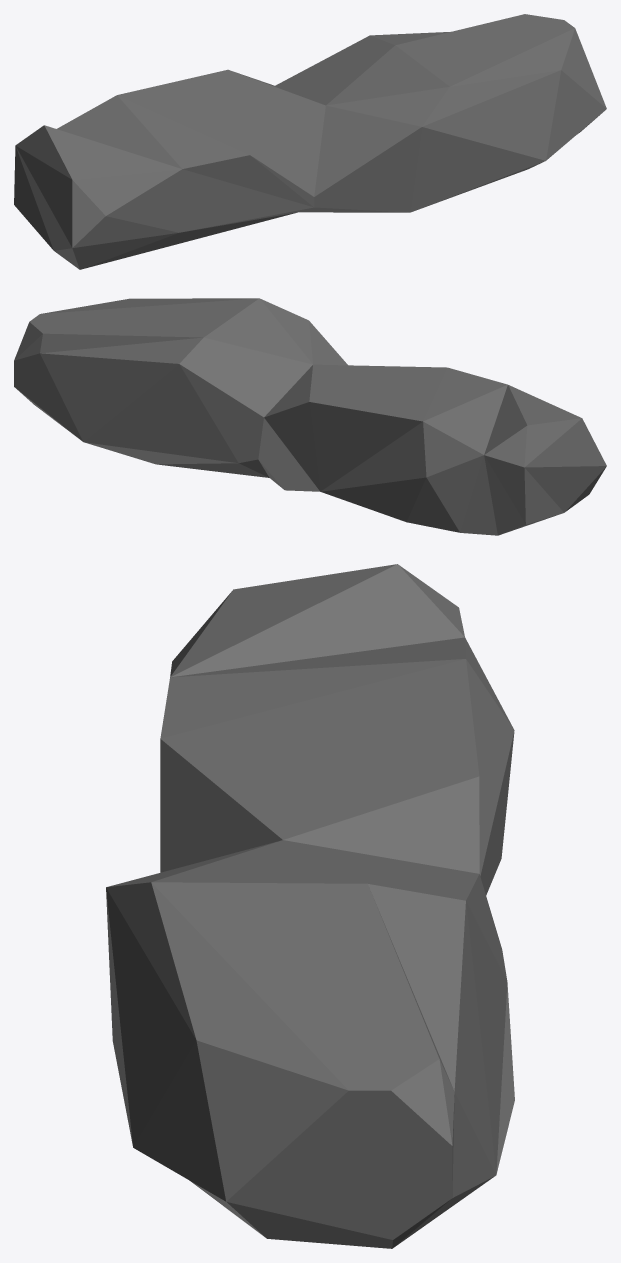
File: Stone_A_04.FBX
3 renders of one model, top to bottom at view 1: azimuth 30°, elevation 25°; view 2: azimuth 150°, elevation 25°; view 3: azimuth 270°, elevation 25°, orthographic. The views are drawn at different scales.
Parts seen in each view (by area): view 1: Stone_A_04; view 2: Stone_A_04; view 3: Stone_A_04.
Boxes of the visible parts, box(x1,y1,x2,y2) form: Stone_A_04: box(14, 14, 606, 269); Stone_A_04: box(14, 298, 606, 535); Stone_A_04: box(106, 564, 514, 1248).
Bounding box in the file's own units: 9.9 × 1.85 × 3.33.
